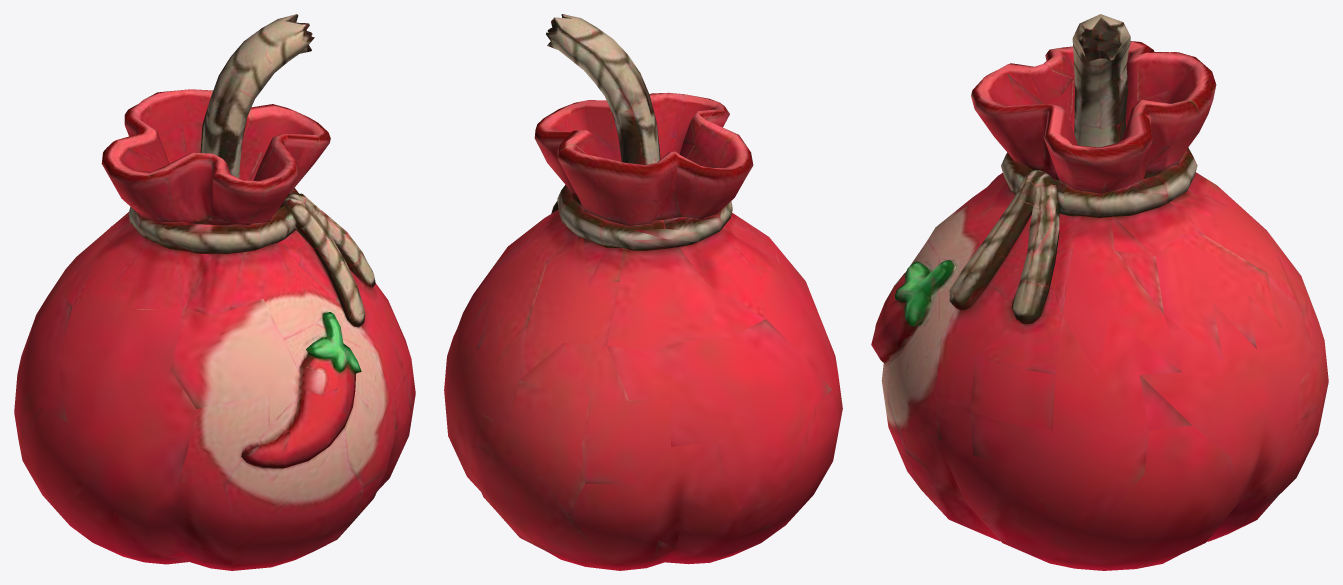
File: item-pepperBomb.glb
3 renders of one model, left to right at view 1: azimuth 30°, elevation 25°; view 2: azimuth 150°, elevation 25°; view 3: azimuth 270°, elevation 25°, orthographic. The views are drawn at different scales.
Bounding box in the file's own units: 0.73 × 0.9526 × 0.7393.
Materials: 1 (1 with a texture image).
